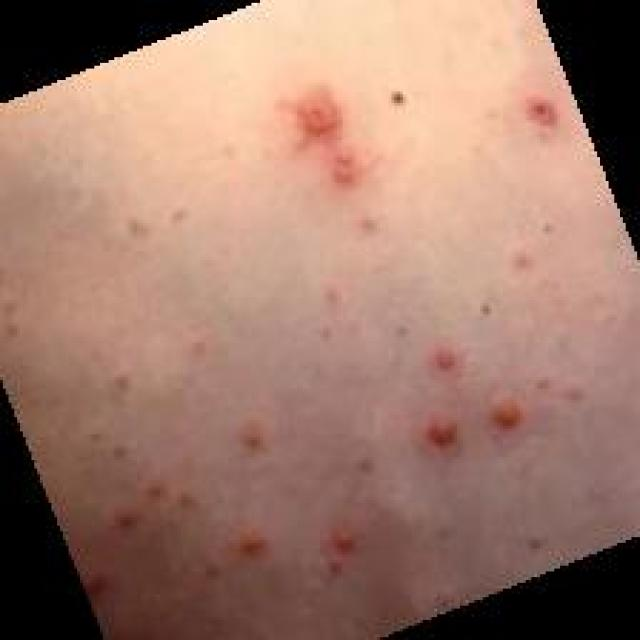others: (29, 68, 583, 573)
